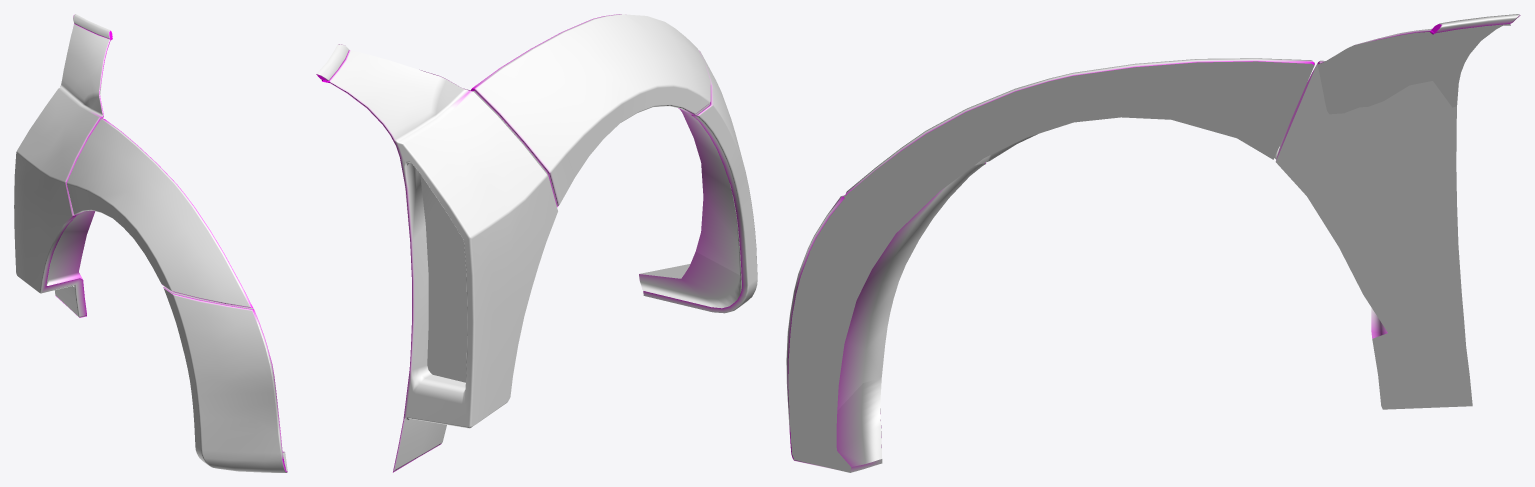
File: Car_Mini_CountrymanJCW_2017_FenderFR_SetC_AltB.fbx
3 renders of one model, left to right at view 1: azimuth 30°, elevation 25°; view 2: azimuth 150°, elevation 25°; view 3: azimuth 270°, elevation 25°, orthographic. The views are drawn at different scales.
Visible parts, largest first — view 1: FenderFR 6; view 2: FenderFR 6; view 3: FenderFR 6.
Part boxes in pixels (bbox=[...]): FenderFR 6: bbox=[14, 14, 287, 472]; FenderFR 6: bbox=[316, 14, 757, 472]; FenderFR 6: bbox=[786, 14, 1520, 472].
Bounding box in the file's own units: 0.281 × 0.8223 × 1.19.
